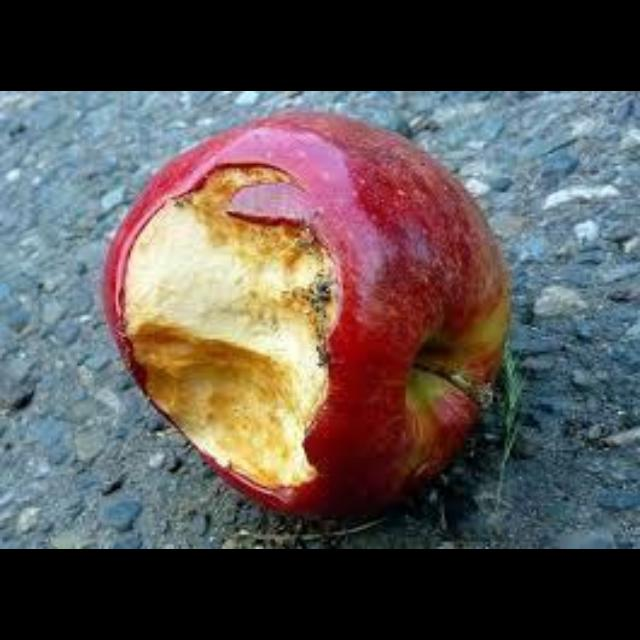apple: (106, 113, 507, 514)
scratch: (115, 165, 343, 483)
